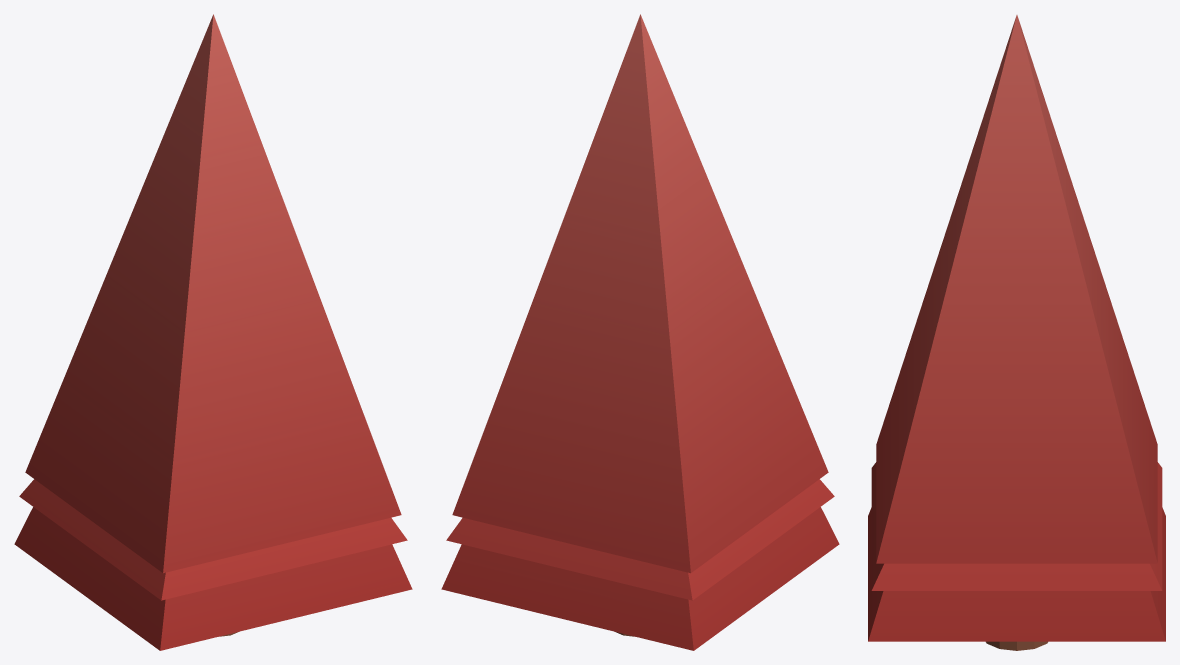
Rendered from Tree_34_gradient_red_pal.fbx.
The picture shows the model from 3 angles, left to right: view 1: azimuth 30°, elevation 25°; view 2: azimuth 150°, elevation 25°; view 3: azimuth 270°, elevation 25°; orthographic projection. The views are drawn at different scales.
Visible parts, largest first — view 1: Tree_34_gradient_red_pal; view 2: Tree_34_gradient_red_pal; view 3: Tree_34_gradient_red_pal.
Part boxes in pixels (x1,y1,x2,y2): Tree_34_gradient_red_pal: (14,14,412,650); Tree_34_gradient_red_pal: (441,14,839,650); Tree_34_gradient_red_pal: (868,15,1165,650).
Size of the model in its own units: 83.78 by 193 by 83.78.
